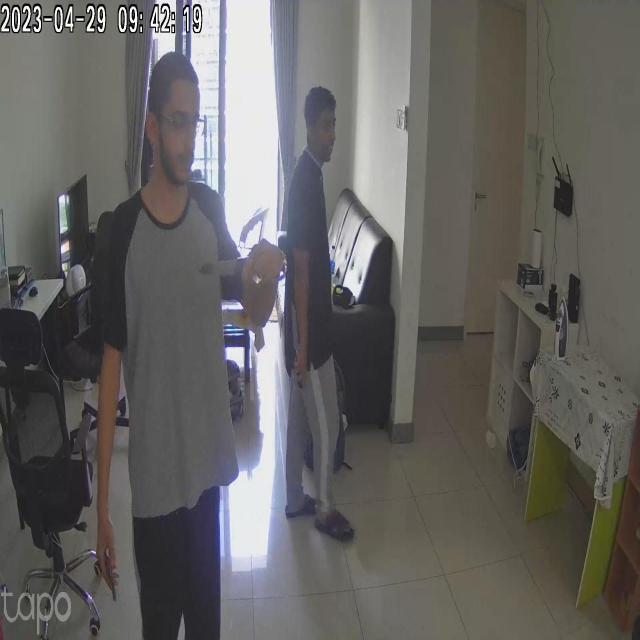Knife: (197, 252, 269, 290), (283, 298, 309, 372)
